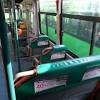seat: (16, 55, 98, 97)
